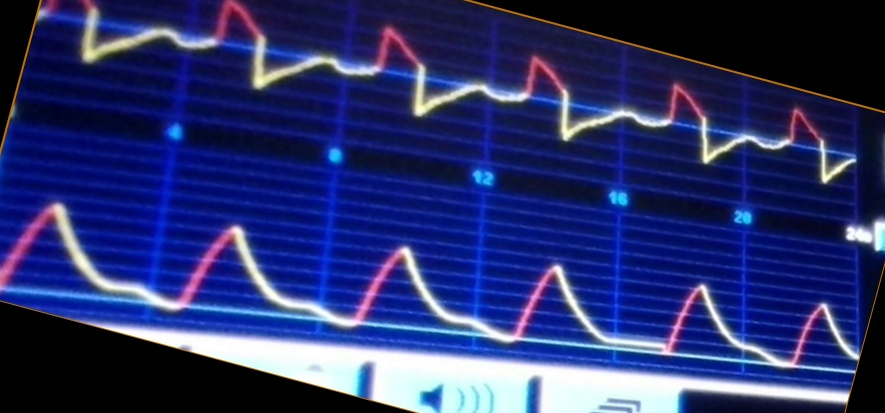Ineffective_effort Flow: (41, 2, 855, 181)
Ineffective_effort Volume: (4, 200, 859, 374)
